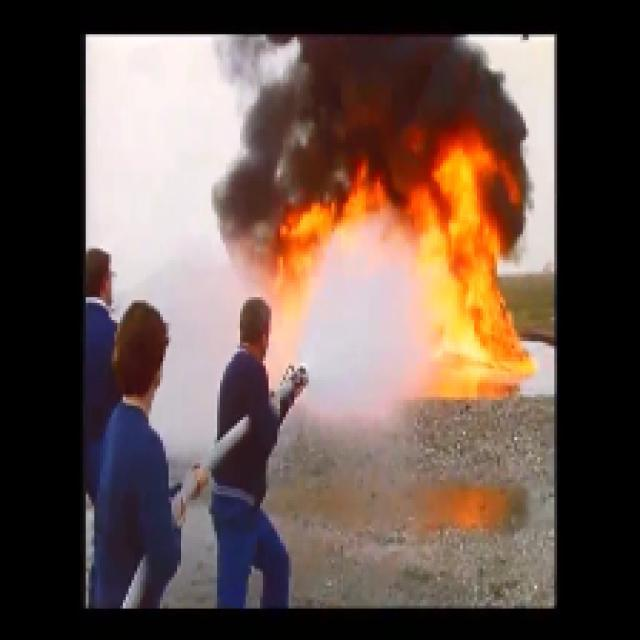Fire: (446, 177, 522, 372)
Smoke: (294, 32, 497, 141)
